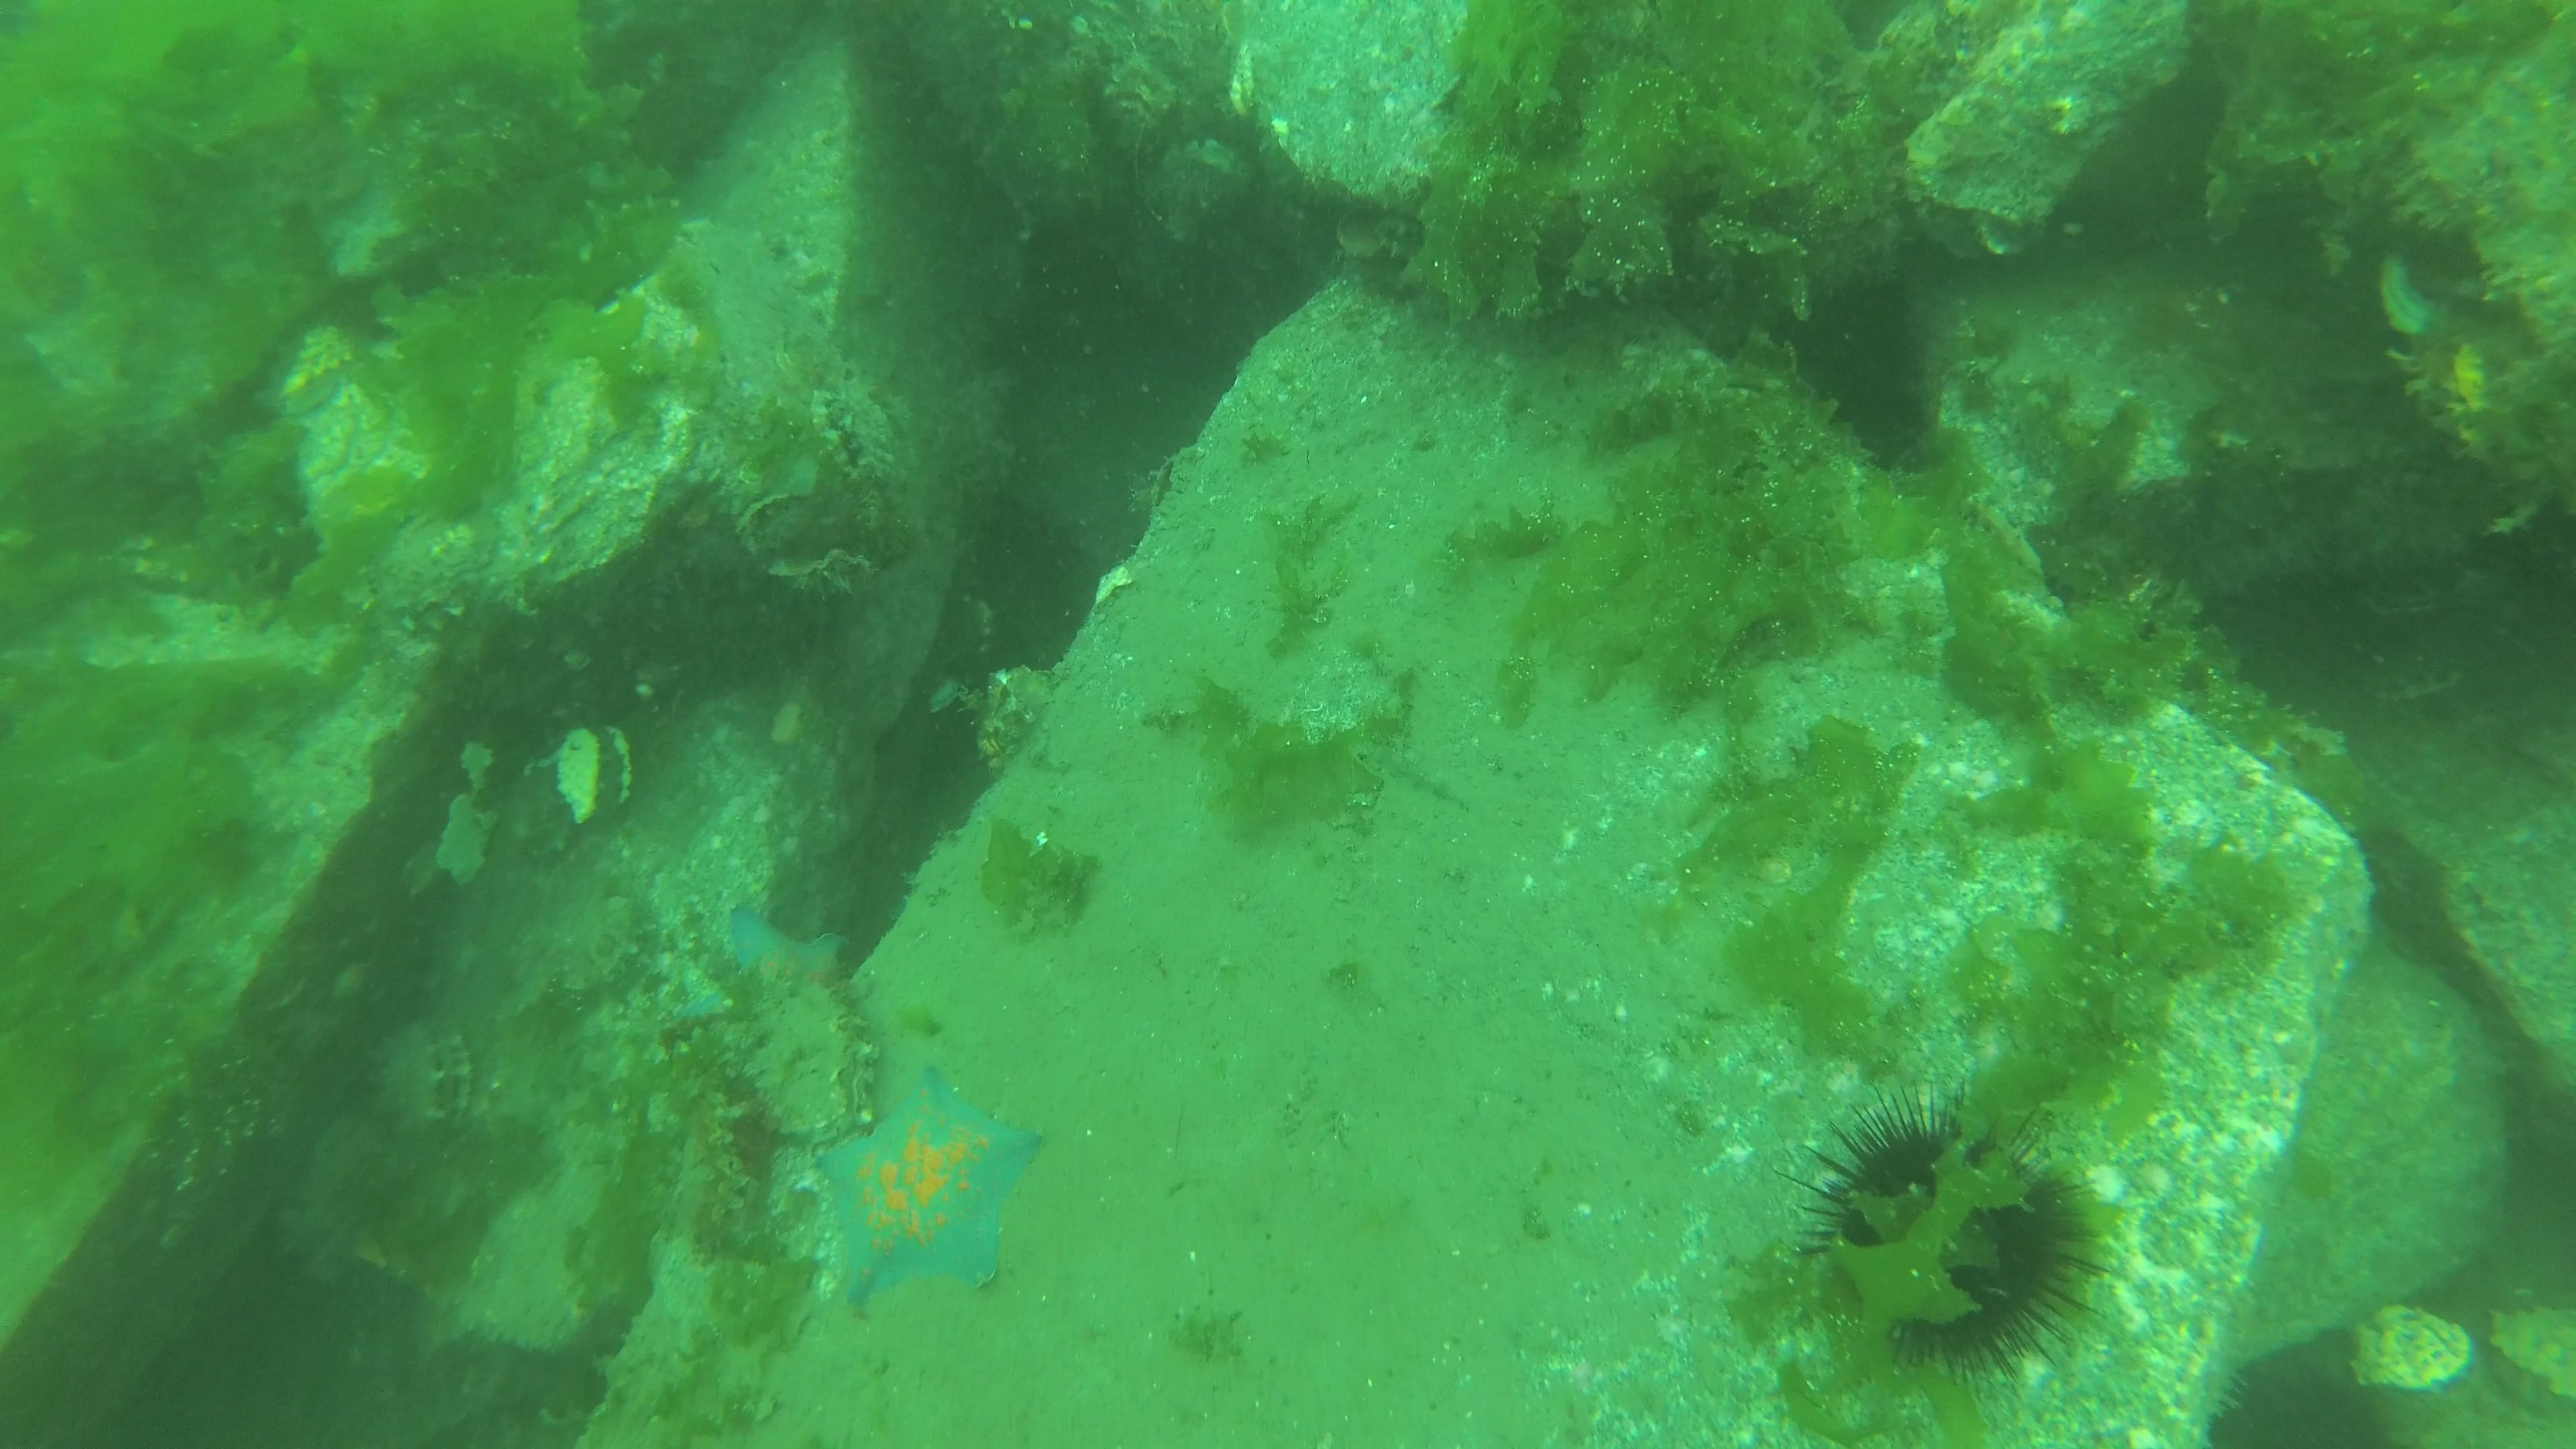echinus: (1792, 1092, 2093, 1384), (2204, 1350, 2388, 1449)
starfish: (810, 1062, 1051, 1307), (683, 902, 851, 1021)
